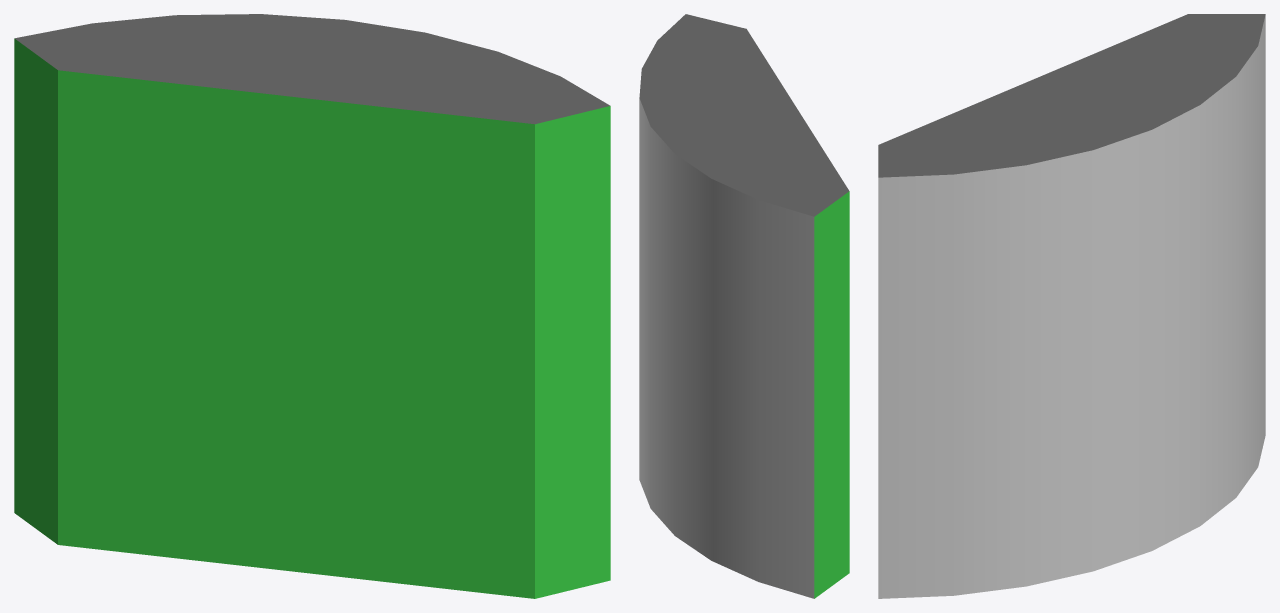
Rendered from Wall_Simple_RoundCorner00.fbx.
The picture shows the model from 3 angles, left to right: view 1: azimuth 30°, elevation 25°; view 2: azimuth 150°, elevation 25°; view 3: azimuth 270°, elevation 25°; orthographic projection. The views are drawn at different scales.
Parts seen in each view (by area): view 1: Wall_Simple_RoundCorner00; view 2: Wall_Simple_RoundCorner00; view 3: Wall_Simple_RoundCorner00.
Boxes of the visible parts, x1,y1,x2,y2 form: Wall_Simple_RoundCorner00: (14,14,610,598); Wall_Simple_RoundCorner00: (639,14,849,598); Wall_Simple_RoundCorner00: (878,14,1265,598).
Size of the model in its own units: 250 by 300 by 250.
